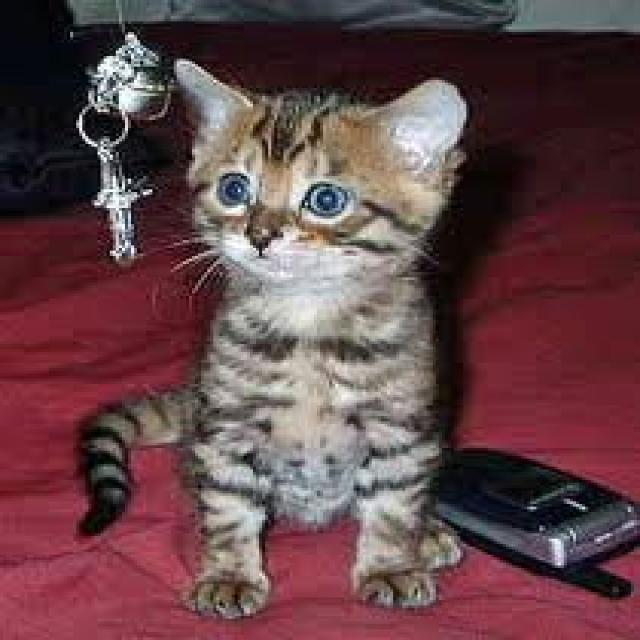Bengal: (174, 55, 469, 281)
